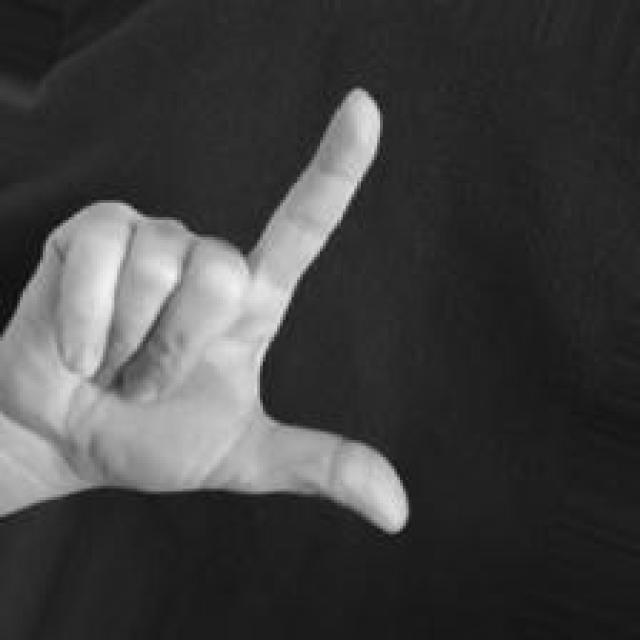L: (4, 78, 422, 550)
